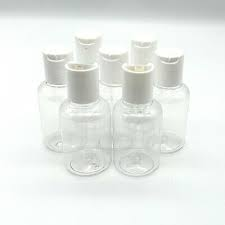available: (60, 85, 113, 177), (115, 91, 164, 183), (36, 80, 79, 153), (149, 77, 188, 154)
